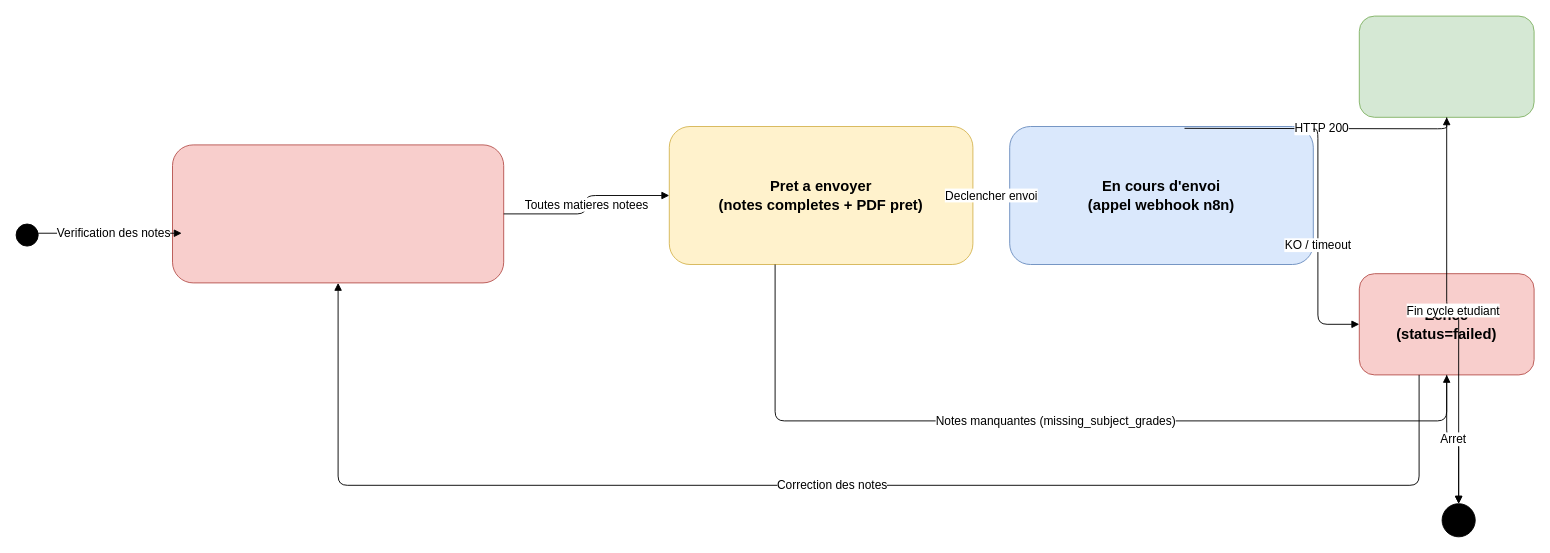
This 1550x553 diagram has some shape labels left out. The box of each missing label's shape, as (x1, y1, x2, y2) in pixels:
Brouillon / Non pret (notes manquantes ou non verifiees): (172, 144, 504, 283)
Envoye (status=sent): (1358, 15, 1534, 117)
